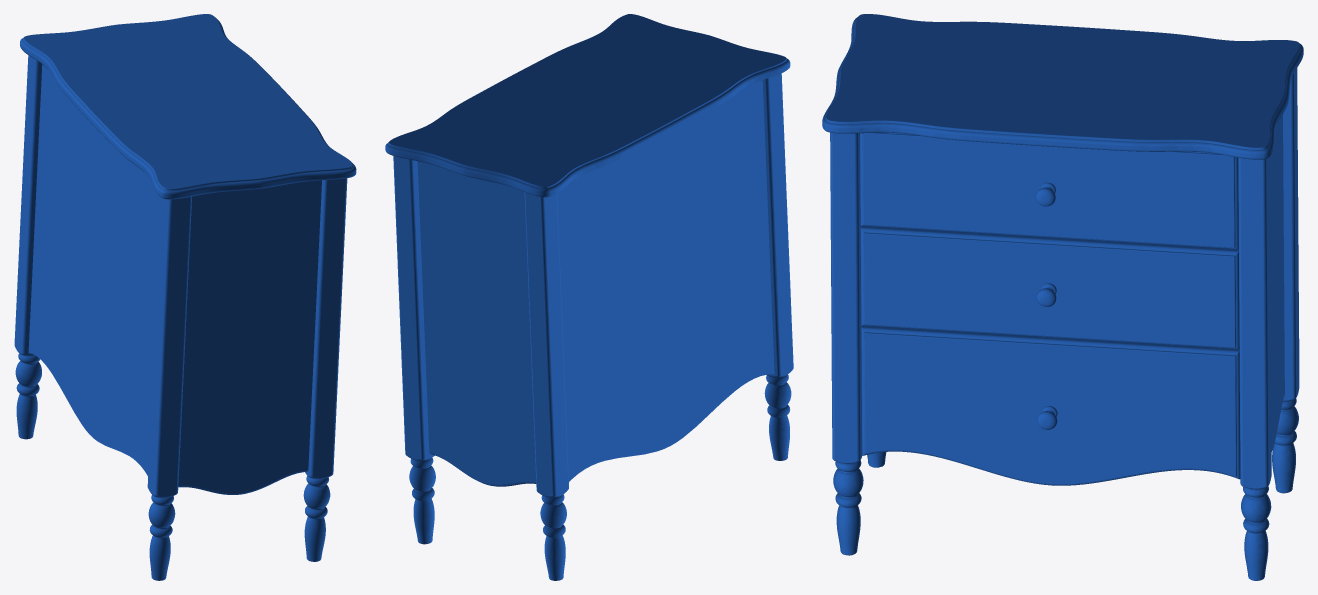
Rendered from mueble2_v2.obj.
The picture shows the model from 3 angles, left to right: view 1: azimuth 30°, elevation 25°; view 2: azimuth 150°, elevation 25°; view 3: azimuth 270°, elevation 25°; orthographic projection. The views are drawn at different scales.
Parts seen in each view (by area): view 1: 1081_nightstand; view 2: 1081_nightstand; view 3: 1081_nightstand.
Part boxes in pixels (x1,y1,x2,y2): 1081_nightstand: [14, 14, 356, 580]; 1081_nightstand: [385, 14, 793, 580]; 1081_nightstand: [822, 14, 1303, 580].
Bounding box in the file's own units: 43.46 × 71.42 × 67.9.
